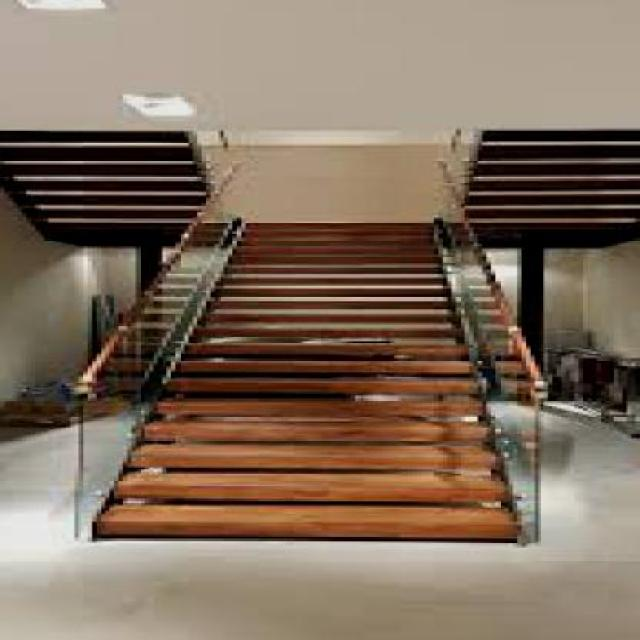stair: (25, 155, 572, 548)
